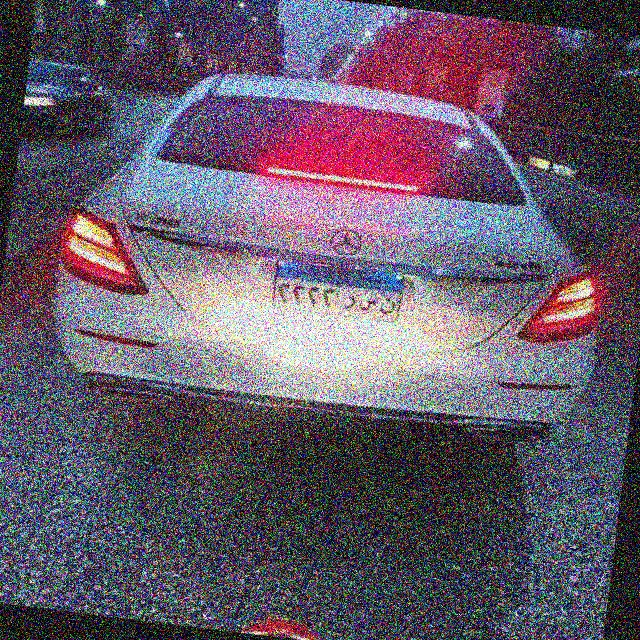License Plate: (267, 254, 407, 327)
